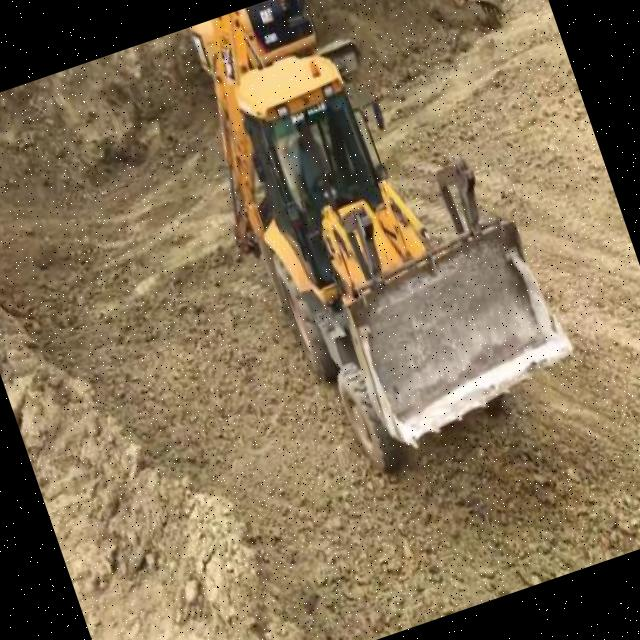Excavator: (186, 0, 506, 113)
